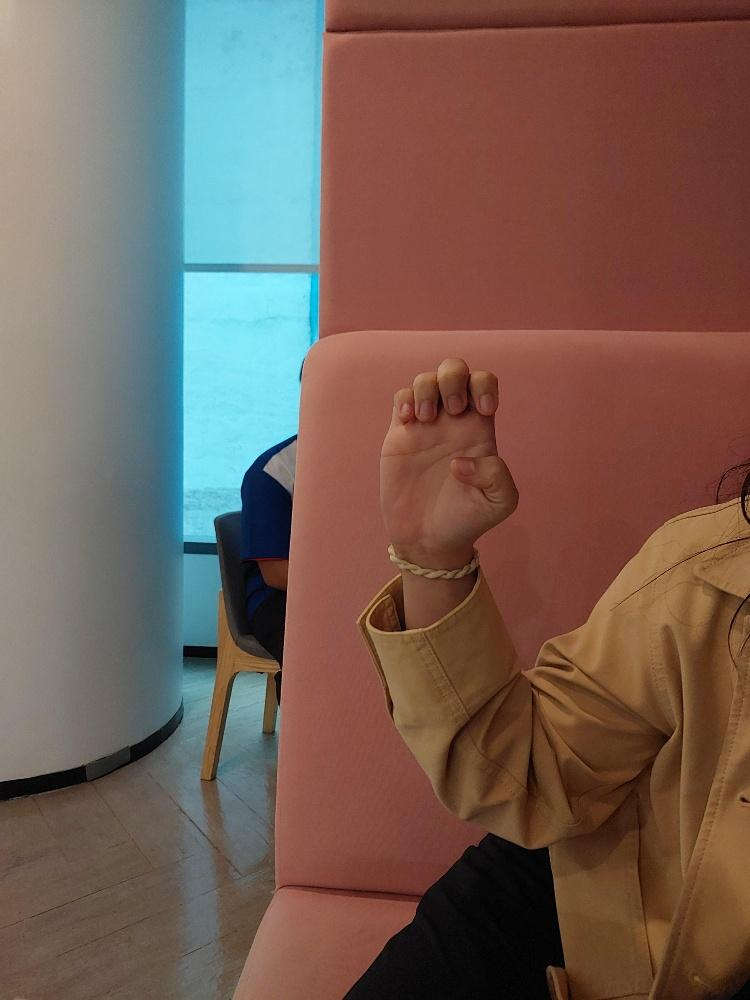e: (372, 347, 528, 570)
